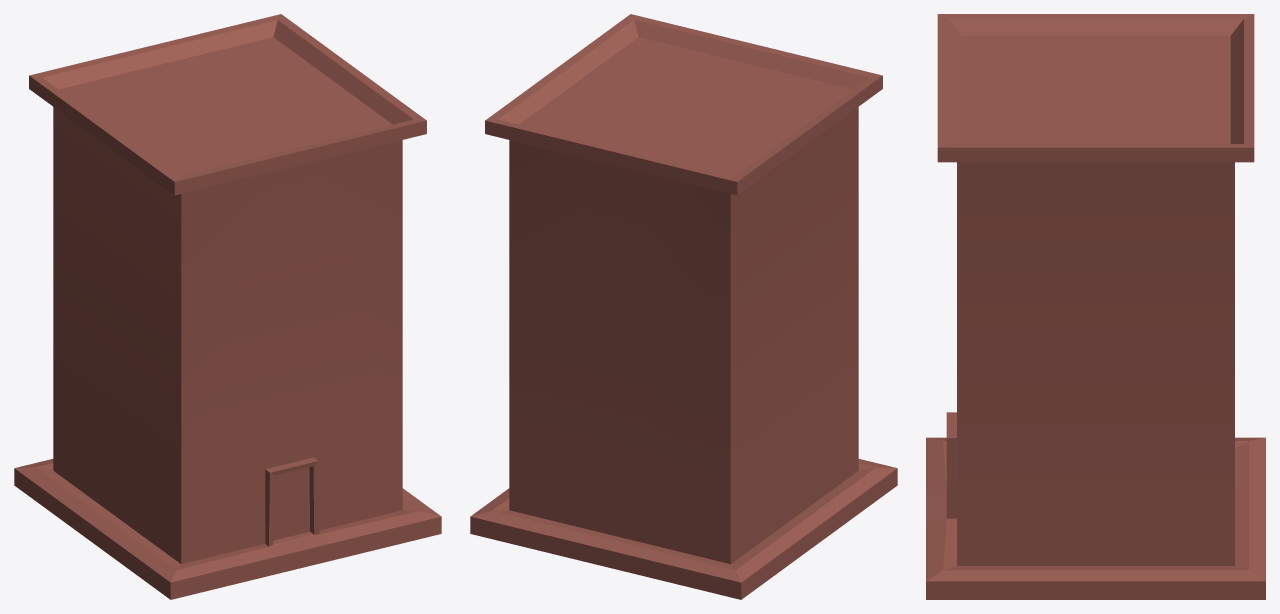
The model's file is Building1.fbx.
3 renders of one model, left to right at view 1: azimuth 30°, elevation 25°; view 2: azimuth 150°, elevation 25°; view 3: azimuth 270°, elevation 25°, orthographic. The views are drawn at different scales.
Visible parts, largest first — view 1: Building1; view 2: Building1; view 3: Building1.
Boxes of the visible parts, x1=… form: Building1: x1=14, y1=14, x2=441, y2=599; Building1: x1=470, y1=14, x2=897, y2=599; Building1: x1=926, y1=14, x2=1265, y2=599.
Bounding box in the file's own units: 5.57 × 8.09 × 5.57.
